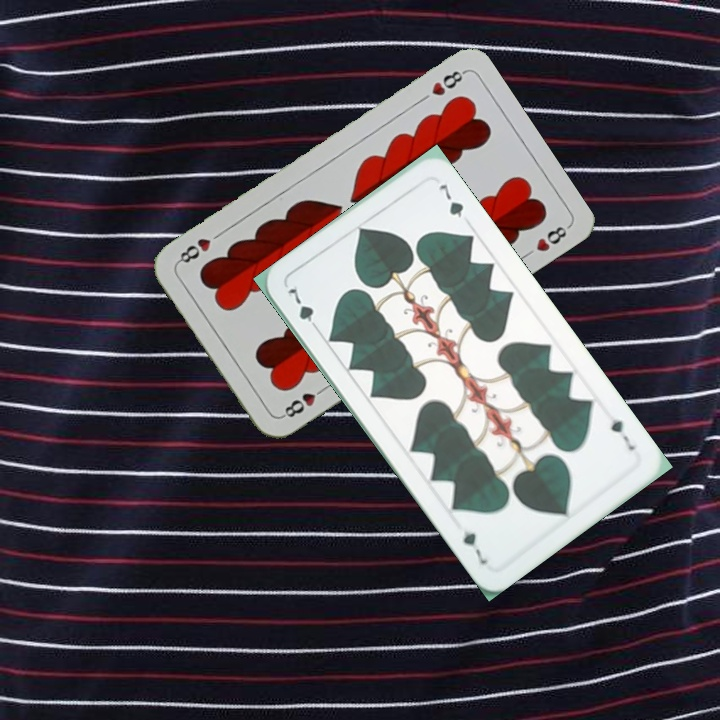G7: (283, 284, 323, 335), (606, 414, 638, 453)
H8: (277, 382, 329, 421), (427, 66, 468, 99)
